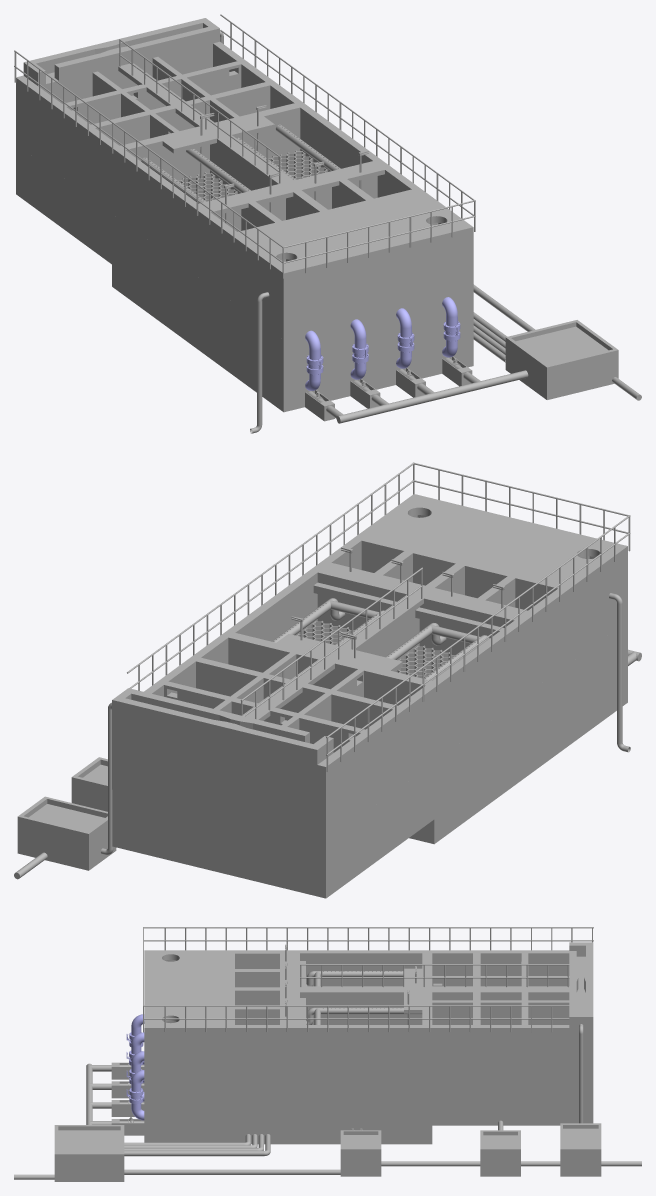
File: ensamblaje_planta.glb
3 renders of one model, top to bottom at view 1: azimuth 30°, elevation 25°; view 2: azimuth 150°, elevation 25°; view 3: azimuth 270°, elevation 25°, orthographic. The views are drawn at different scales.
Visible parts, largest first — view 1: Estructura superior de la planta-1, Estructura inferior de la planta-1, Tuberia adicional-1, Tuberia perforada-1, Tamizador-2, Tuberia en L-1, Tuberia de ingreso-4, Tamizador-1, Dispositivo en C-7, Dispositivo en C-5, Dispositivo en C-6, Dispositivo en C-8 (+1 smaller); view 2: Estructura superior de la planta-1, Estructura inferior de la planta-1, Tuberia adicional-1, Tuberia perforada-1, Tuberia perforada-2, Tamizador-1, Tuberia de ingreso-4, Tuberia de ingreso-1, Tamizador-2; view 3: Estructura superior de la planta-1, Estructura inferior de la planta-1, Tuberia adicional-1, Tuberia en L-1, Tuberia perforada-2, Tuberia perforada-1, Dispositivo en C-5, Tuberia de ingreso-1.
Part boxes in pixels (x1,y1,x2,y2): Estructura superior de la planta-1: (14,14,475,339); Estructura inferior de la planta-1: (16,144,473,421); Tuberia adicional-1: (336,284,641,423); Tuberia perforada-1: (141,148,250,203); Tamizador-2: (268,150,328,179); Tuberia en L-1: (473,312,507,362); Tuberia de ingreso-4: (250,292,269,433); Tamizador-1: (178,172,237,201); Dispositivo en C-7: (350,319,368,379); Dispositivo en C-5: (442,297,460,357); Dispositivo en C-6: (396,308,414,368); Dispositivo en C-8: (305,330,323,390); Estructura superior de la planta-1: (112,462,630,841); Estructura inferior de la planta-1: (112,621,627,898); Tuberia adicional-1: (14,649,641,879); Tuberia perforada-1: (385,623,489,680); Tuberia perforada-2: (272,598,384,645); Tamizador-1: (396,645,454,678); Tuberia de ingreso-4: (609,593,630,752); Tuberia de ingreso-1: (101,702,113,854); Tamizador-2: (297,621,354,644); Estructura superior de la planta-1: (143,927,593,1083); Estructura inferior de la planta-1: (111,1021,593,1144); Tuberia adicional-1: (14,1063,641,1181); Tuberia en L-1: (124,1134,270,1156); Tuberia perforada-2: (306,1007,421,1024); Tuberia perforada-1: (306,971,403,986); Dispositivo en C-5: (126,1070,144,1120); Tuberia de ingreso-1: (579,1024,583,1123).
Bounding box in the file's own units: 7.08 × 4.41 × 15.39.
